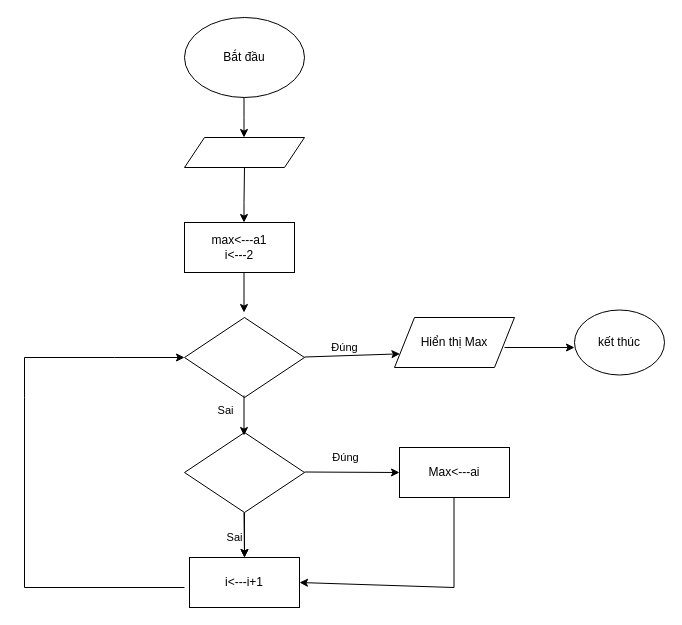
This 682x625 diagram has some shape labels left out. Each missing label, with the centre of its shape:
"ai>Max" belongs at [244,472].
"i>N" belongs at [244,357].
"Nhập N và dãy số a1,a2,..,an" belongs at [244,152].
